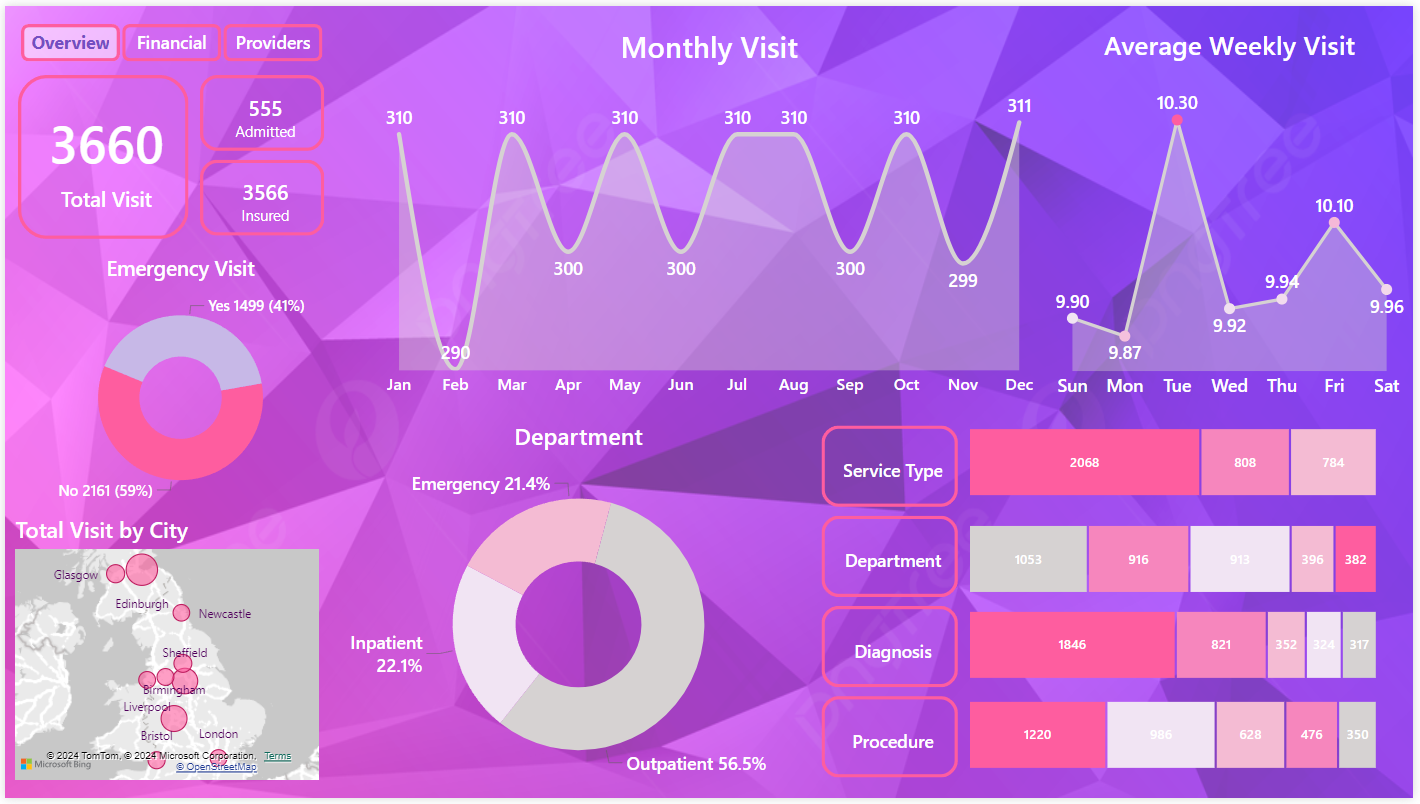

The dashboard page shown, as its layout file describes it:
{"tool":"powerbi","page":{"name":"Overview","canvas":[1280,720],"ordinal":0},"visuals":[{"type":"cardVisual","fields":{"Data":["_All Measures.Total Visit"]},"box":[12,62.7,155.7,149.3],"z":0},{"type":"donutChart","fields":{"Category":["diagnoses.Diagnosis"],"Y":["_All Measures.Total Visit"]},"box":[305.1,376.7,431.8,343.7],"z":1000},{"type":"advancedSlicerVisual","fields":{"Values":["Total Visit By.Visit By"]},"box":[736.9,376.7,134.4,332.7],"z":2000},{"type":"pieChart","title":"Emergency Visit","fields":{"Category":["visits_good.Emergency Visit"],"Y":["_All Measures.Total Visit"]},"box":[0,225.1,319.2,236.3],"z":3000},{"type":"cardVisual","fields":{"Data":["_All Measures.Total Visit Admitted","_All Measures.Total Visit With Insurance"]},"box":[176.9,62.7,113.3,147.4],"z":4000},{"type":"barChart","title":"Service Type","fields":{"Y":["_All Measures.Total Visit"],"Series":["visits_good.Service Type"]},"box":[876.8,360.2,403.2,101.3],"z":5000},{"type":"barChart","title":"Department","fields":{"Y":["_All Measures.Total Visit"],"Series":["departments.Department"]},"box":[876.9,449.1,403.1,99.7],"z":6000},{"type":"barChart","title":"Diagnosis","fields":{"Y":["_All Measures.Total Visit"],"Series":["diagnoses.Diagnosis"]},"box":[876.8,533.1,403.2,88.1],"z":7000},{"type":"barChart","title":"Procedure","fields":{"Y":["_All Measures.Total Visit"],"Series":["procedures.Procedure"]},"box":[876.9,621.5,403.1,73.9],"z":8000},{"type":"map","fields":{"Category":["cities.City"],"Size":["_All Measures.Total Visit"]},"box":[4.5,461.4,285.6,247.5],"z":9000},{"type":"lineChart","title":"Monthly Visit","fields":{"Y":["_All Measures.Total Visit"],"Category":["Calendar.MonthShort"]},"box":[332.6,17.9,614.8,346],"z":10000},{"type":"lineChart","title":"Average Weekly Visit","fields":{"Category":["Calendar.WeekName"],"Y":["_All Measures.Avg Visit Per DayWeek"]},"box":[946.3,17.9,333.7,342.7],"z":11000},{"type":"pageNavigator","box":[14.7,16.6,275.5,34.1],"z":12000}]}

Visuals, with their boxes in screenshot pixels (x1, y1, x2, y2), scaled from the page's 1280x720 canvas onto the 1420x804 screenshot:
cardVisual - _All Measures.Total Visit: [left=13, top=70, right=186, bottom=237]
donutChart - diagnoses.Diagnosis x _All Measures.Total Visit: [left=338, top=421, right=817, bottom=803]
advancedSlicerVisual - Total Visit By.Visit By: [left=817, top=421, right=967, bottom=792]
"Emergency Visit" pieChart: [left=0, top=251, right=354, bottom=515]
cardVisual - _All Measures.Total Visit Admitted x _All Measures.Total Visit With Insurance: [left=196, top=70, right=322, bottom=235]
"Service Type" barChart: [left=973, top=402, right=1419, bottom=515]
"Department" barChart: [left=973, top=501, right=1419, bottom=613]
"Diagnosis" barChart: [left=973, top=595, right=1419, bottom=694]
"Procedure" barChart: [left=973, top=694, right=1419, bottom=777]
map - cities.City x _All Measures.Total Visit: [left=5, top=515, right=322, bottom=792]
"Monthly Visit" lineChart: [left=369, top=20, right=1051, bottom=406]
"Average Weekly Visit" lineChart: [left=1050, top=20, right=1419, bottom=403]
pageNavigator: [left=16, top=19, right=322, bottom=57]
